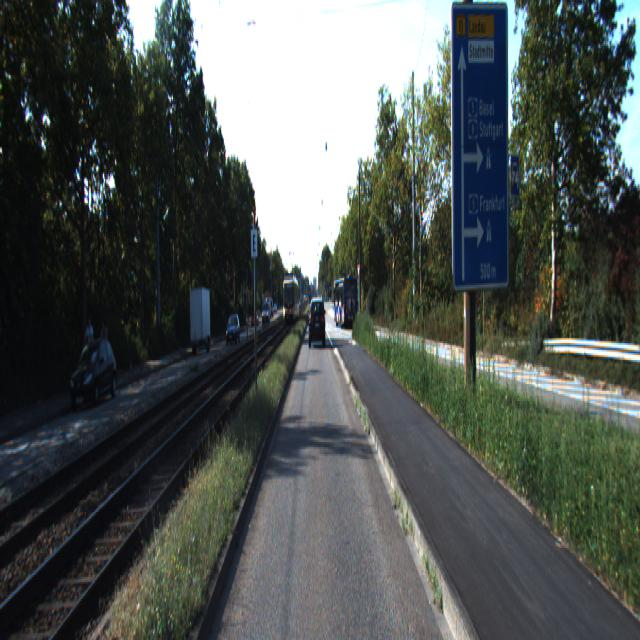Car: (69, 338, 119, 411), (188, 287, 211, 355), (334, 276, 358, 328), (309, 297, 325, 346), (225, 316, 240, 348)
